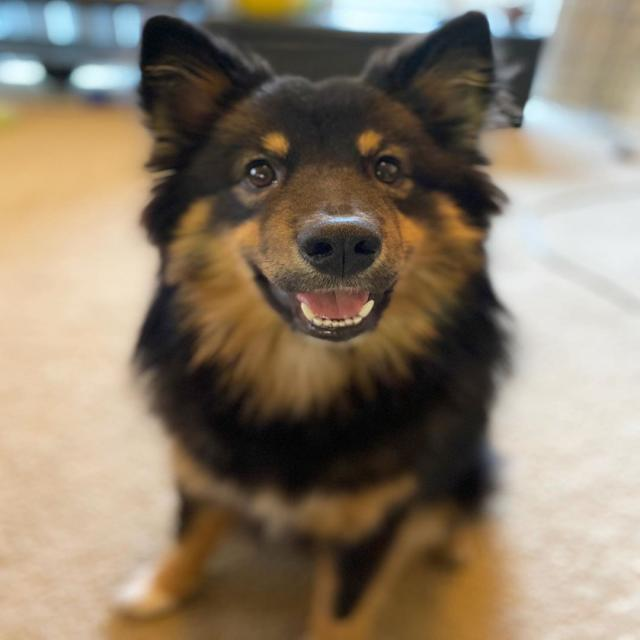dog: (105, 4, 526, 640)
